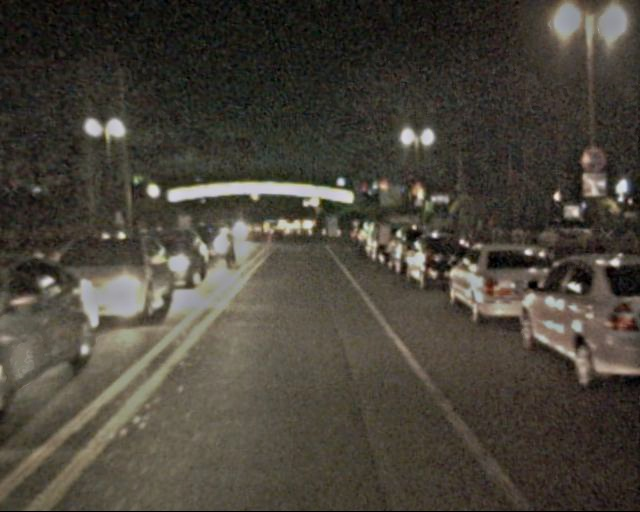person: (368, 217, 392, 276)
